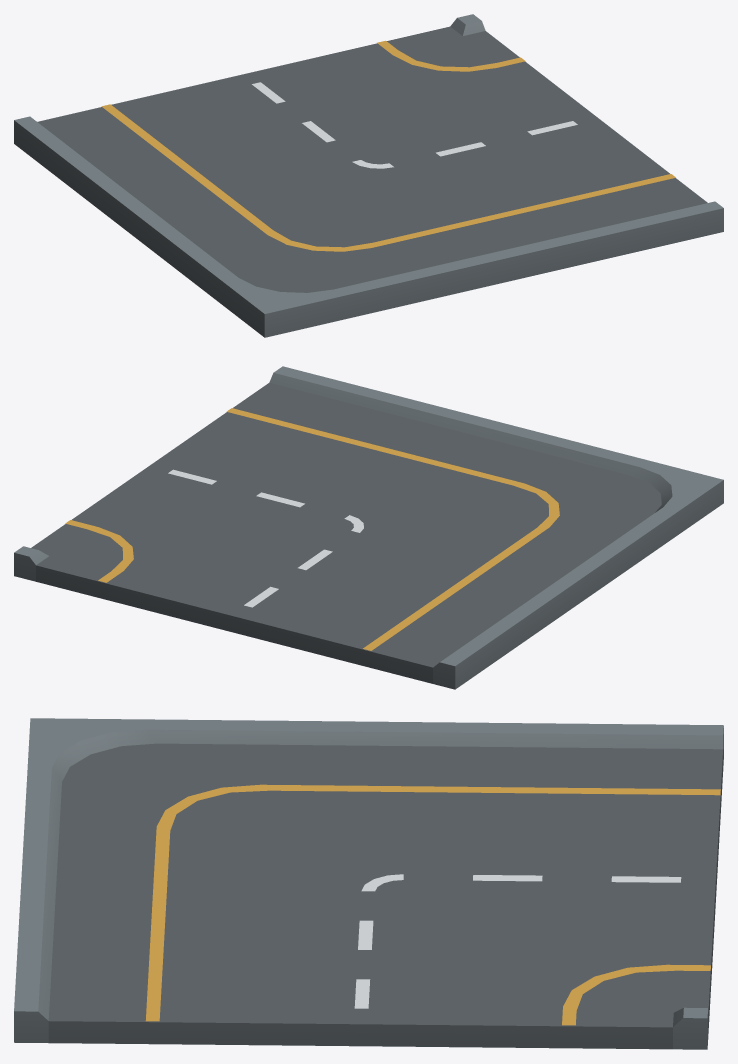
Rendered from road_corner.001_lev3.glb.
3 views of the same model, one above another, from view 1: azimuth 30°, elevation 25°; view 2: azimuth 150°, elevation 25°; view 3: azimuth 270°, elevation 25° (orthographic). The views are drawn at different scales.
Parts seen in each view (by area): view 1: road_corner.001_lev3; view 2: road_corner.001_lev3; view 3: road_corner.001_lev3.
Part boxes in pixels (x1=…): road_corner.001_lev3: x1=14, y1=14, x2=723, y2=337; road_corner.001_lev3: x1=14, y1=366, x2=723, y2=689; road_corner.001_lev3: x1=14, y1=718, x2=723, y2=1049.
Size of the model in its own units: 9.02 by 0.4406 by 9.02.
1 material, 1 textured.
